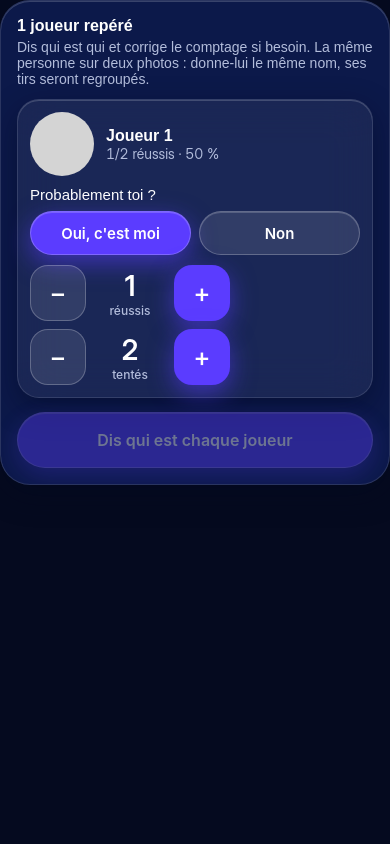
it: fin du shoot à plusieurs › « Non » : on tape un prénom, et un prénom déjà connu est reconnu
expect the text "Probablement toi ?" is shown: met, box [30,186,156,203]
Click the button "Non" at (280, 233), box [199,211,360,255]
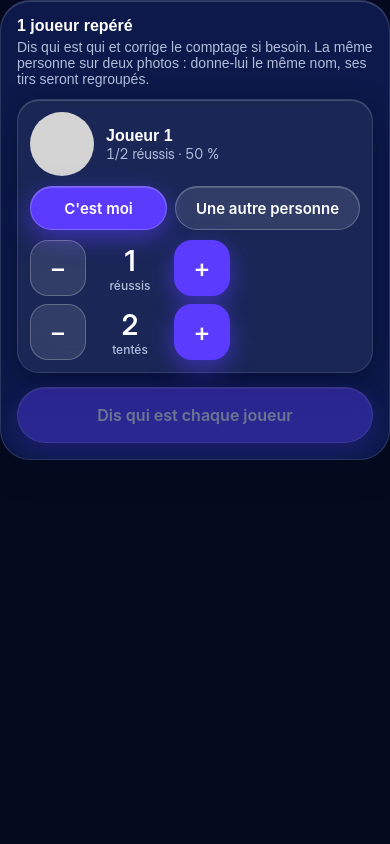
Click the button "Une autre personne" at (268, 208), box [175,186,360,230]
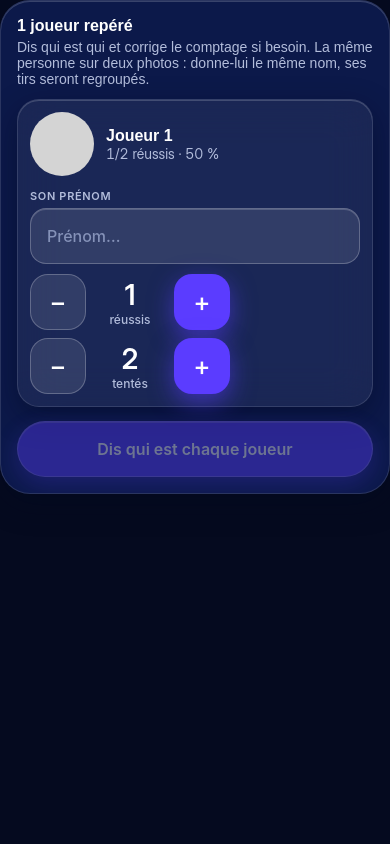
Type "leo" into the field labelled "Son prénom" at (195, 236), box [30,208,360,264]
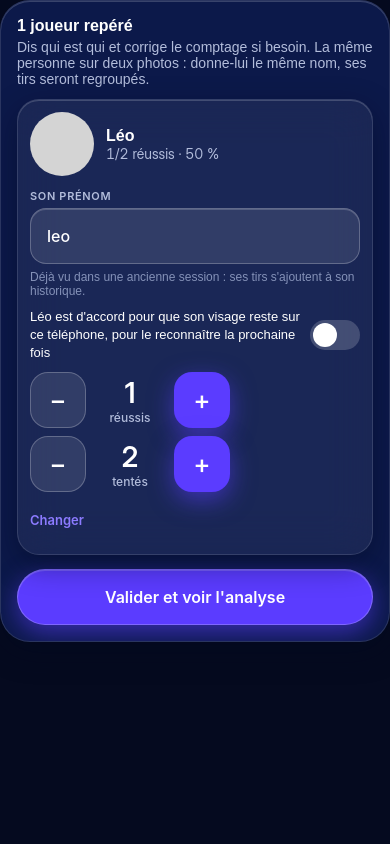
expect the text "Déjà vu dans une ancienne session" is shown: met, box [30,270,354,298]
